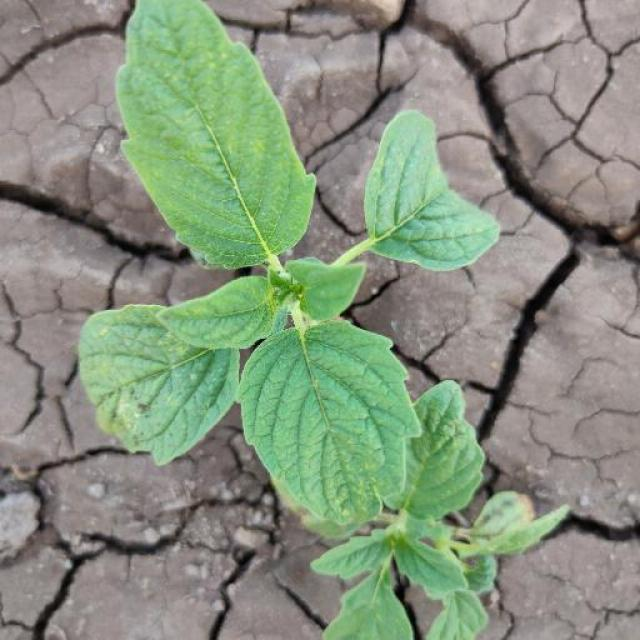crop: (50, 1, 572, 626)
